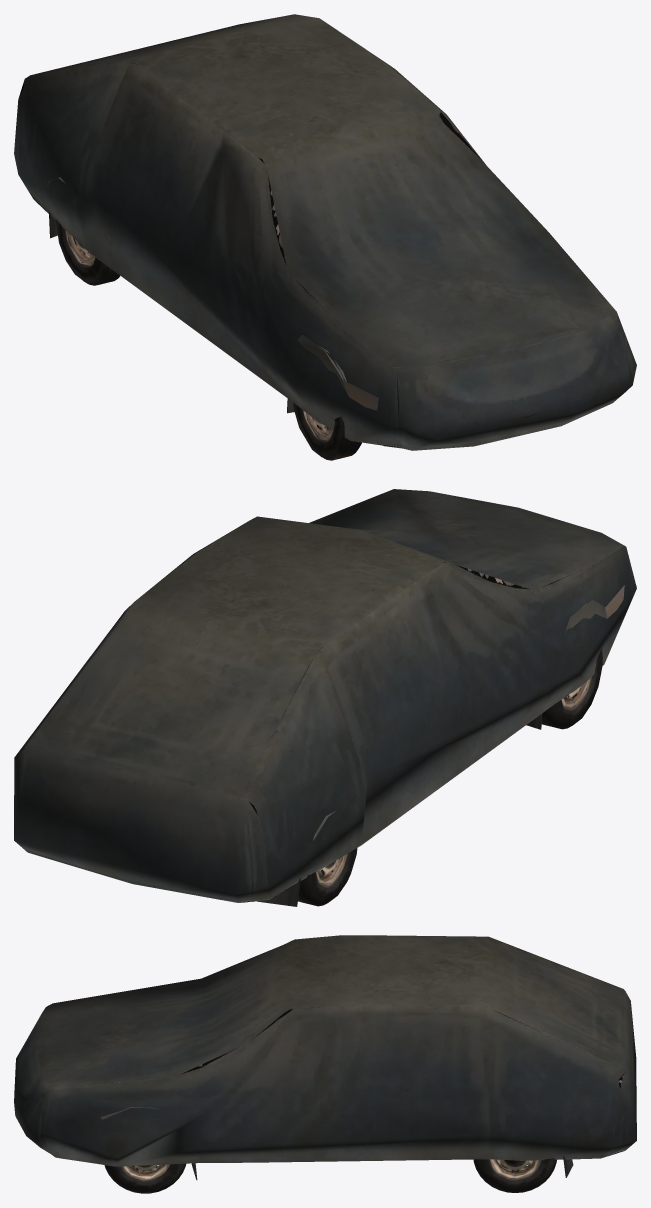
Rendered from covered_car.glb.
3 views of the same model, one above another, from view 1: azimuth 30°, elevation 25°; view 2: azimuth 150°, elevation 25°; view 3: azimuth 270°, elevation 25° (orthographic). The views are drawn at different scales.
Parts seen in each view (by area): view 1: covered_car, covered_car_wheel_02, covered_car_wheel_03; view 2: covered_car, covered_car_wheel_03, covered_car_wheel_02; view 3: covered_car, covered_car_wheel_04, covered_car_wheel_01.
Part boxes in pixels (x1=…): covered_car: x1=14, y1=14, x2=636, y2=450; covered_car_wheel_02: x1=293, y1=402, x2=361, y2=460; covered_car_wheel_03: x1=55, y1=219, x2=119, y2=285; covered_car: x1=14, y1=489, x2=636, y2=906; covered_car_wheel_03: x1=298, y1=848, x2=357, y2=906; covered_car_wheel_02: x1=541, y1=649, x2=602, y2=729; covered_car: x1=14, y1=935, x2=636, y2=1180; covered_car_wheel_04: x1=473, y1=1158, x2=556, y2=1192; covered_car_wheel_01: x1=104, y1=1163, x2=186, y2=1193.
Bounding box in the file's own units: 1.79 × 1.41 × 4.34.
1 material, 1 textured.
